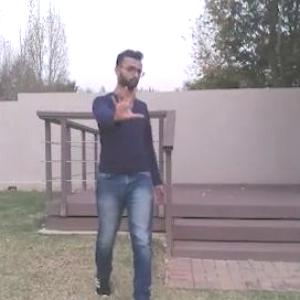follow_hand: (107, 80, 147, 126)
